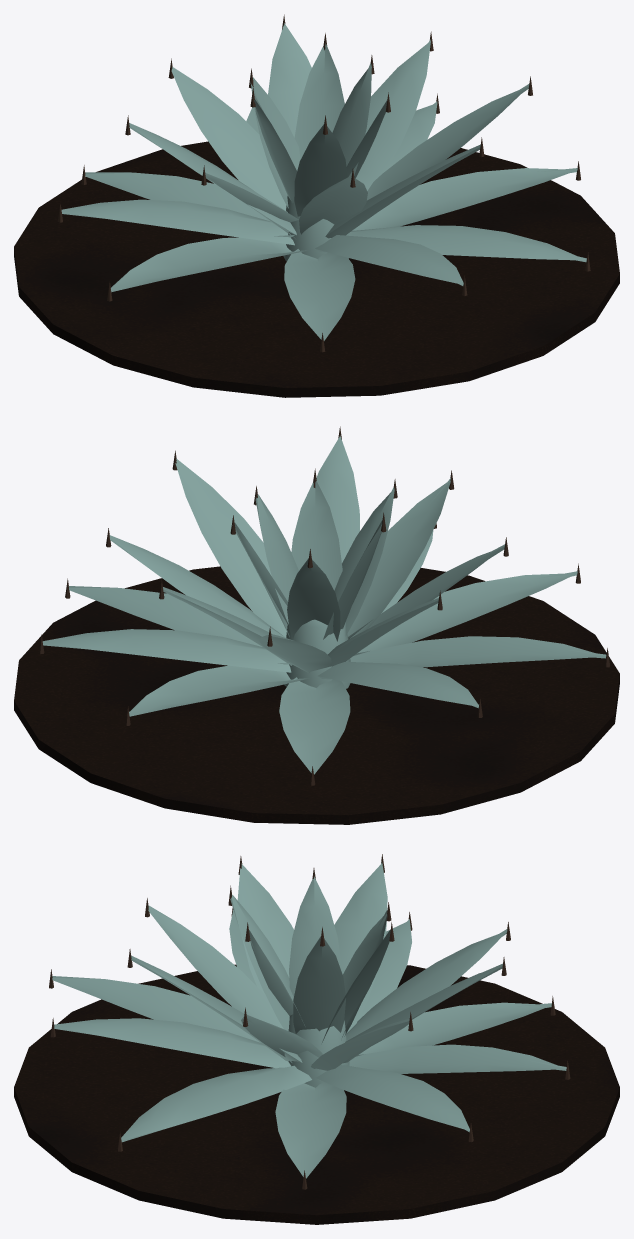
File: plant_agave.glb
The picture shows the model from 3 angles, top to bottom: view 1: azimuth 30°, elevation 25°; view 2: azimuth 150°, elevation 25°; view 3: azimuth 270°, elevation 25°; orthographic projection.
Visible parts, largest first — view 1: body; view 2: body; view 3: body.
Boxes of the visible parts, x1=… form: body: x1=14, y1=14, x2=619, y2=397; body: x1=14, y1=426, x2=619, y2=824; body: x1=14, y1=854, x2=619, y2=1224.
Size of the model in its own units: 1.7 by 0.6156 by 1.7.
3 materials, 1 textured.
